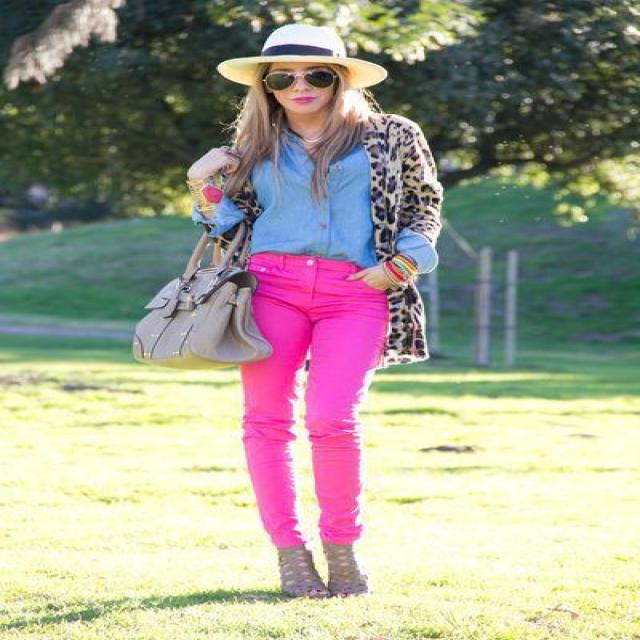bag: (131, 232, 272, 369)
hat: (218, 22, 386, 102)
jacket: (202, 117, 440, 360)
pants: (240, 252, 405, 554)
shirt: (192, 141, 437, 268)
shoe: (277, 544, 366, 599)
sunglass: (254, 62, 318, 88)
